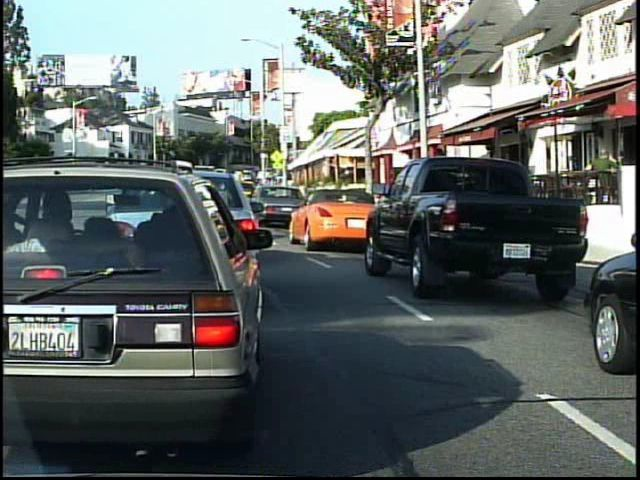person: (585, 141, 620, 224)
